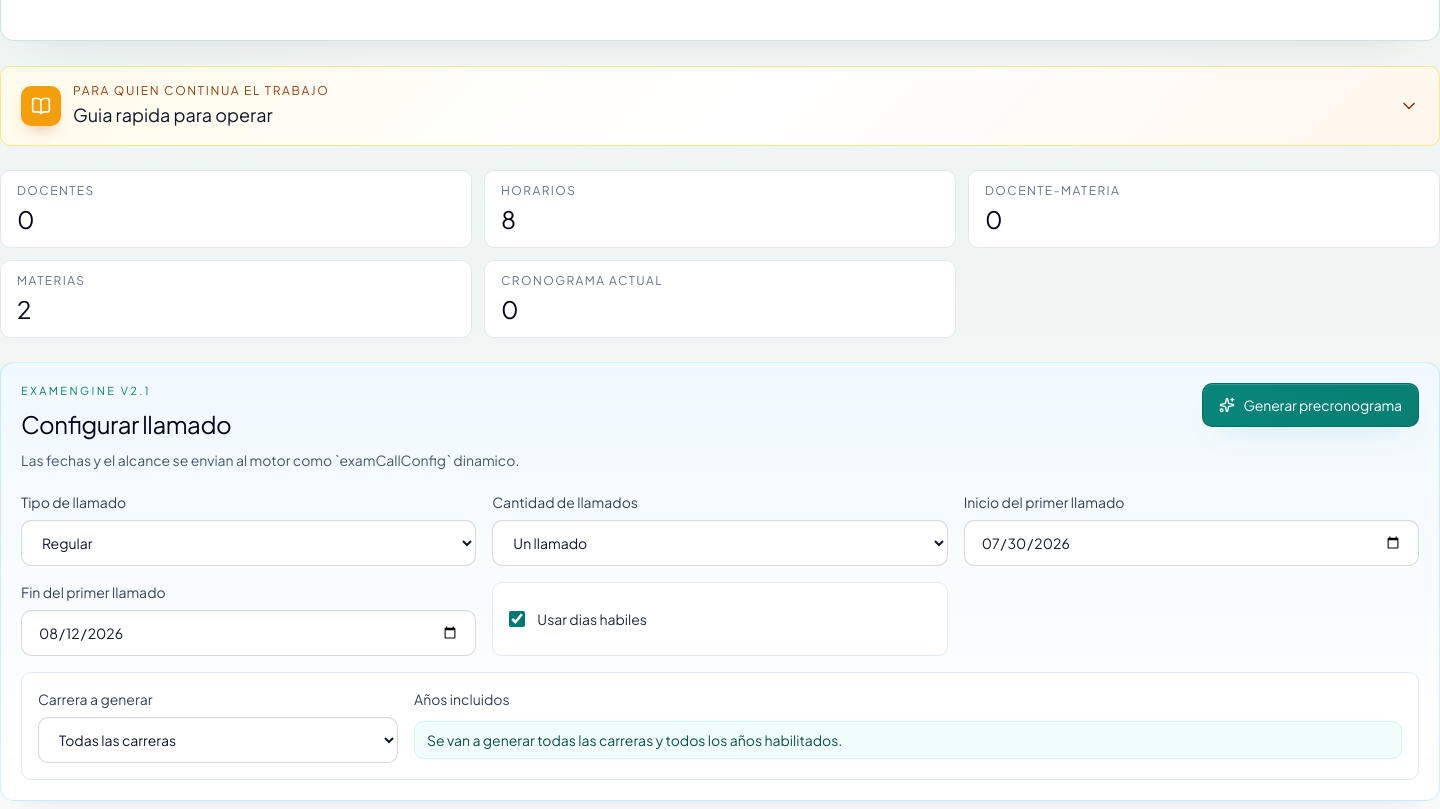
Test: ExamEngineV21FieldTestPage › reiniciar proceso limpia el estado local y avisa al contenedor para borrar el cronograma persistido
The width and height of the screenshot is (1440, 809).
(page scrolled)
Click the button "Generar precronograma" at (1311, 405), box left=1202, top=383, right=1419, bottom=427
(page scrolled)
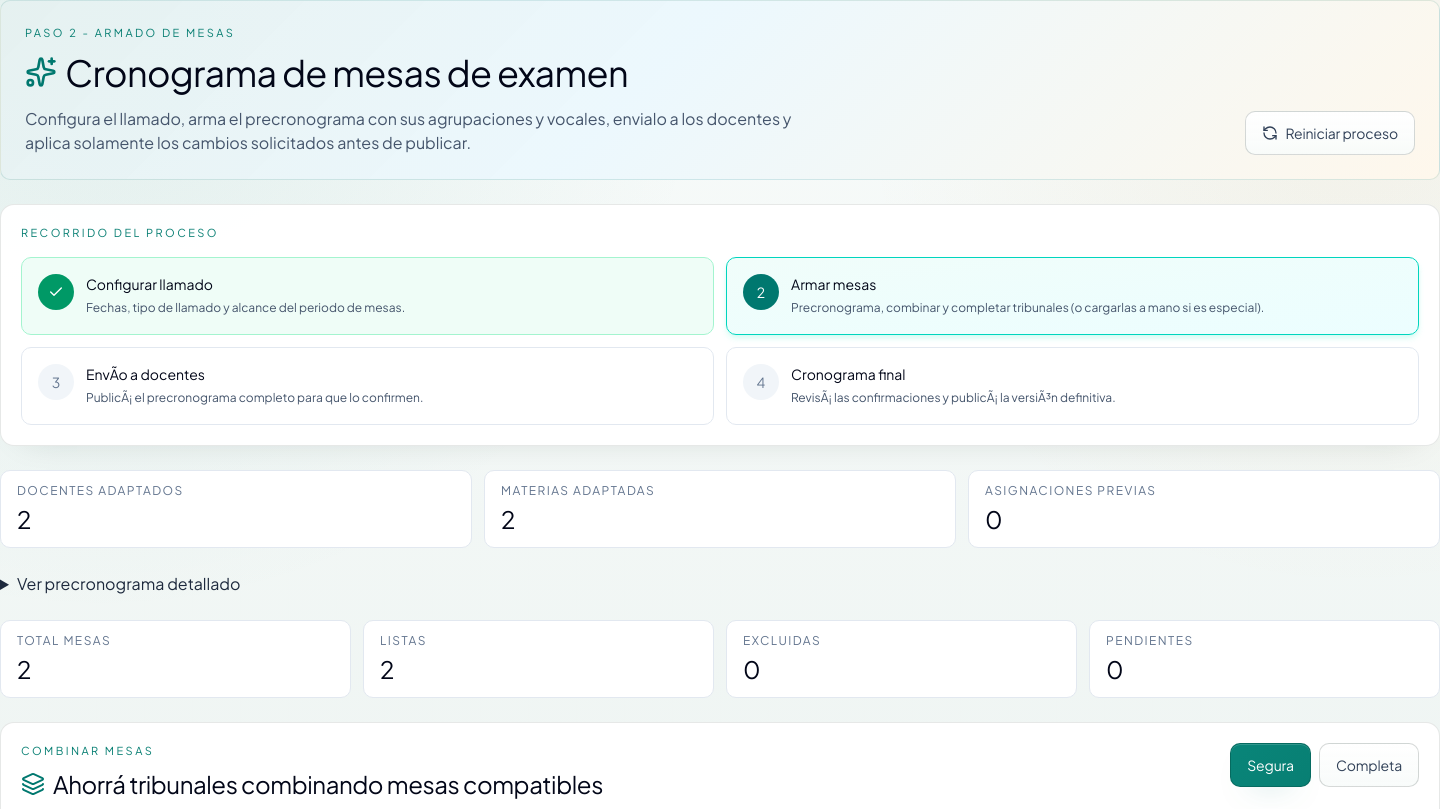
Click the button "Reiniciar proceso" at (1330, 132), box left=1244, top=110, right=1415, bottom=154
(page scrolled)
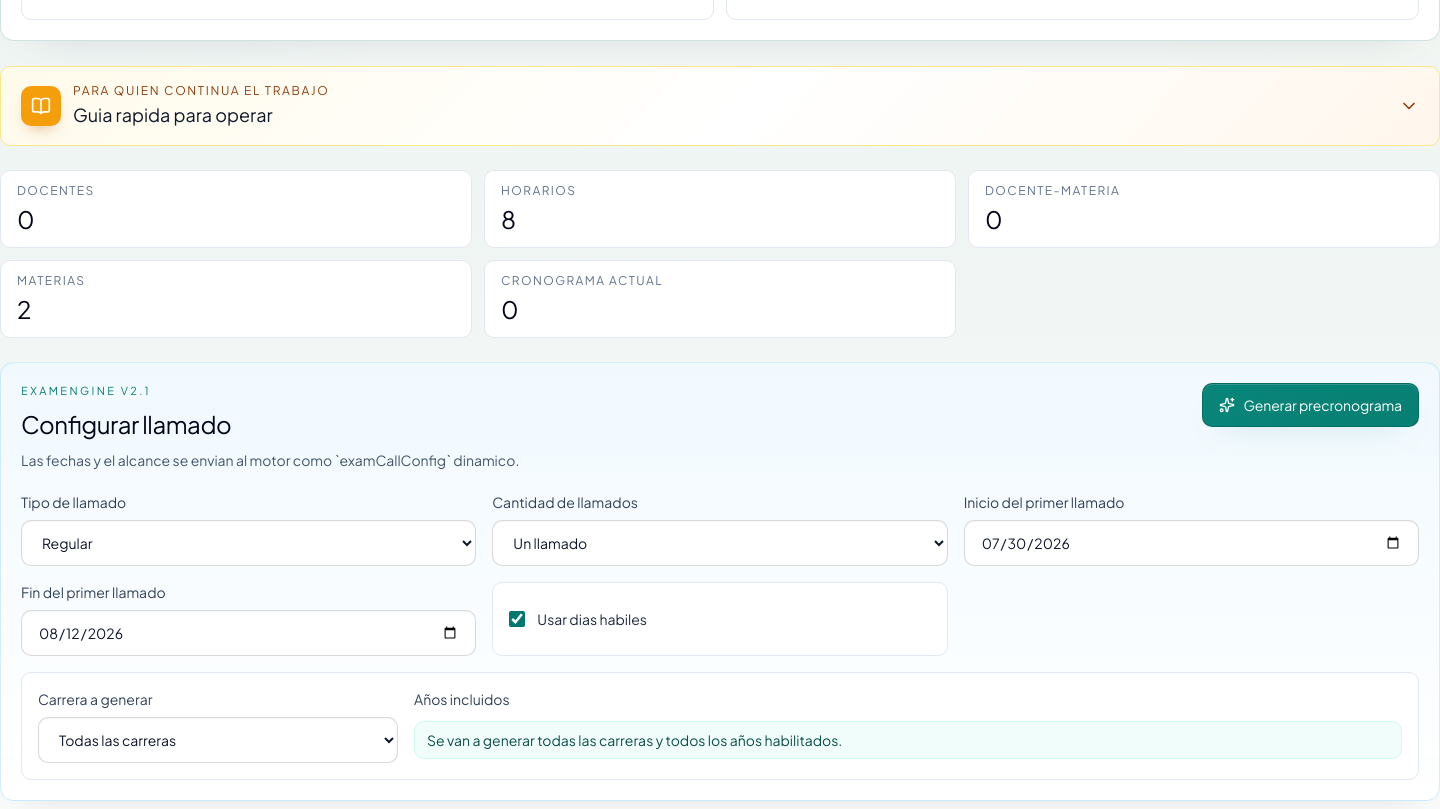
Now the button "Generar precronograma" is shown, box left=1202, top=383, right=1419, bottom=427
